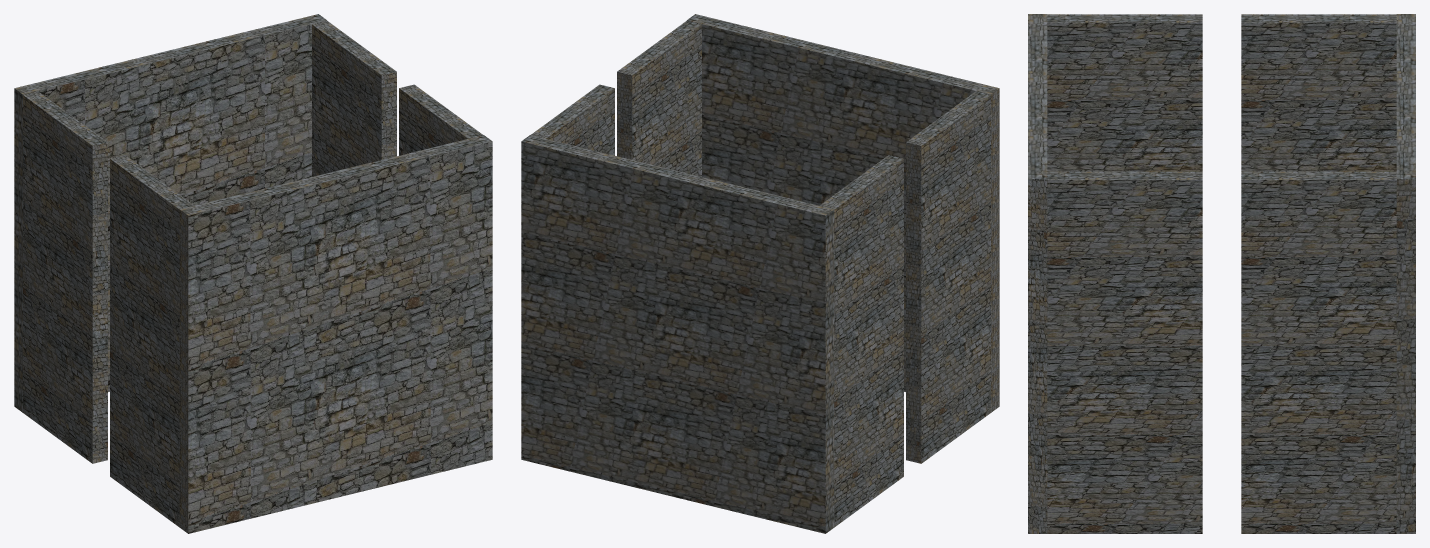
File: 2x2construction.glb
3 renders of one model, left to right at view 1: azimuth 30°, elevation 25°; view 2: azimuth 150°, elevation 25°; view 3: azimuth 270°, elevation 25°, orthographic. The views are drawn at different scales.
Visible parts, largest first — view 1: Cube.002; view 2: Cube.002; view 3: Cube.002.
Boxes of the visible parts, <box> form: Cube.002: <box>14,14,492,533</box>; Cube.002: <box>521,14,999,533</box>; Cube.002: <box>1028,14,1415,533</box>.
Size of the model in its own units: 2 by 2 by 1.98.
1 material, 1 textured.
